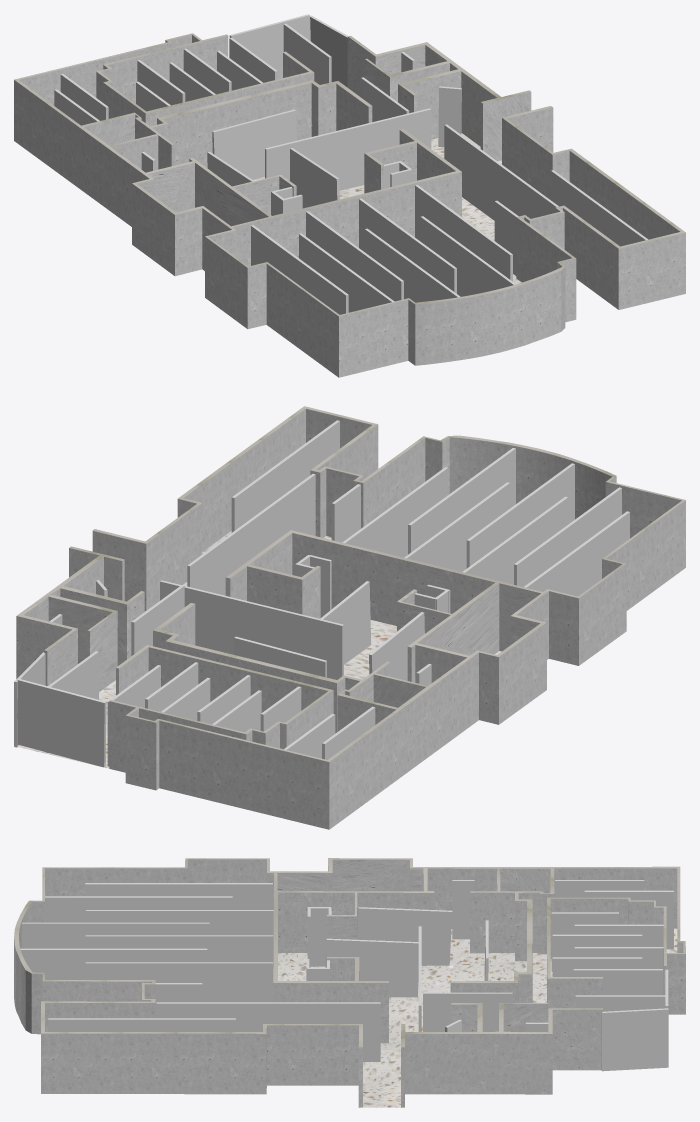
The model's file is event1.dae.
3 views of the same model, one above another, from view 1: azimuth 30°, elevation 25°; view 2: azimuth 150°, elevation 25°; view 3: azimuth 270°, elevation 25° (orthographic). The views are drawn at different scales.
Parts seen in each view (by area): view 1: Curve_049, Cube_011, Cube_002, Cube_013, Cube_009, Cube_008, Cube_003, Cube_007, Cube_005, Cube_004, Cube_006, Cube_010 (+16 smaller); view 2: Curve_049, Cube_011, Cube_026, Cube_002, Cube_010, Cube_008, Cube_003, Cube_009, Cube_006, Cube_004, Cube_007, Cube_005 (+16 smaller); view 3: Curve_049, Cube_002, Cube_009, Cube_027, Cube_015, Cube_008, Cube_007, Cube_014, Cube_006, Cube_005, Cube_003, Cube_004 (+15 smaller).
Part boxes in pixels (x1,y1,x2,y2): Curve_049: (14,33,685,377); Cube_011: (265,108,431,190); Cube_002: (444,124,558,220); Cube_013: (212,109,296,179); Cube_009: (415,185,512,281); Cube_008: (420,216,515,296); Cube_003: (251,225,348,314); Cube_007: (359,198,456,293); Cube_005: (306,211,403,301); Cube_004: (299,233,394,312); Cube_006: (365,228,460,302); Cube_010: (551,170,647,246); Curve_049: (16,406,685,829); Cube_011: (160,580,343,679); Cube_026: (17,679,106,767); Cube_002: (187,474,315,595); Cube_010: (231,420,339,532); Cube_008: (408,448,515,554); Cube_003: (524,511,629,596); Cube_009: (342,467,447,557); Cube_006: (466,463,574,568); Cube_004: (514,487,621,586); Cube_007: (404,482,509,571); Cube_005: (462,496,567,584); Curve_049: (14,858,685,1107); Cube_002: (156,1002,380,1061); Cube_009: (85,962,273,1002); Cube_027: (601,1008,668,1071); Cube_015: (357,907,452,965); Cube_008: (20,948,207,979); Cube_007: (85,935,273,962); Cube_014: (325,938,418,997); Cube_006: (22,922,209,948); Cube_005: (86,910,273,967); Cube_003: (85,883,272,909); Cube_004: (45,896,232,922).
Bounding box in the file's own units: 40 × 60 × 6.42.
3 materials, 3 textured.
